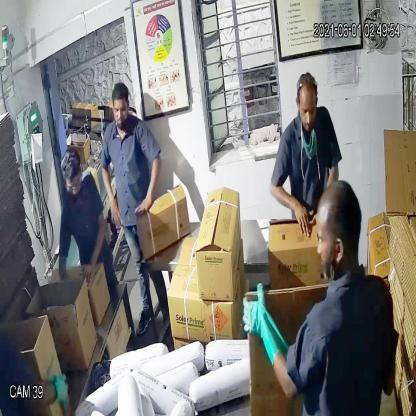goggles: (64, 177, 87, 201)
no_goggles: (310, 225, 346, 259), (293, 95, 322, 124), (107, 98, 132, 120)
